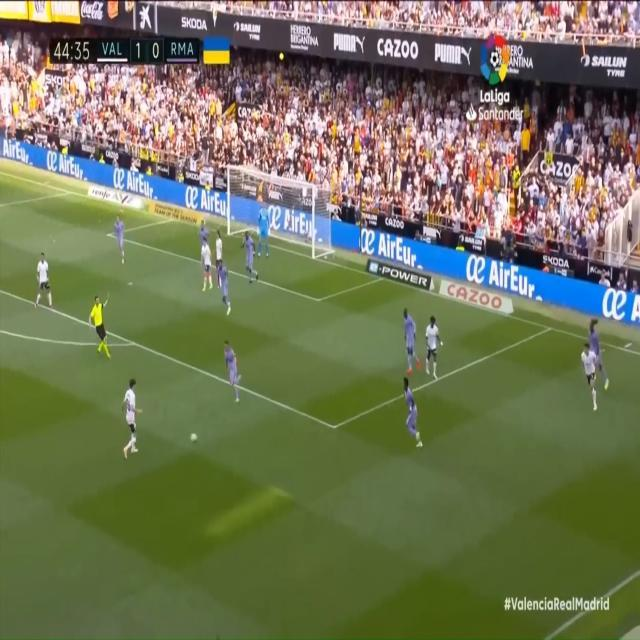ball: (187, 421, 201, 449)
goalkeeper: (252, 203, 272, 260)
player: (119, 365, 149, 477), (398, 379, 432, 453), (220, 326, 246, 416), (587, 321, 611, 398), (398, 297, 420, 380), (577, 344, 601, 420), (109, 209, 132, 273), (237, 225, 260, 286), (36, 243, 56, 310), (422, 314, 443, 376), (199, 232, 219, 293), (217, 257, 234, 317), (214, 234, 225, 278), (198, 222, 208, 255)
referee: (85, 277, 117, 363)
